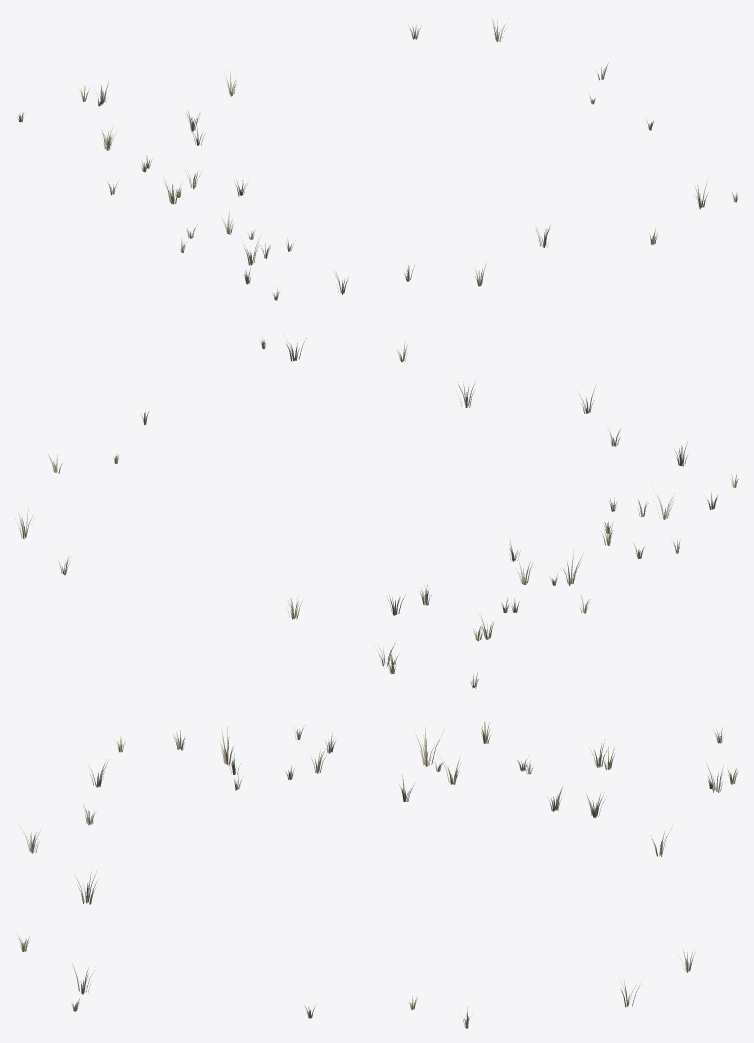
File: AE_Grass_2_1.fbx
3 renders of one model, top to bottom at view 1: azimuth 30°, elevation 25°; view 2: azimuth 150°, elevation 25°; view 3: azimuth 270°, elevation 25°, orthographic. The views are drawn at different scales.
Visible parts, largest first — view 1: AE_Grass_2_1_LOD0; view 2: AE_Grass_2_1_LOD0; view 3: AE_Grass_2_1_LOD0.
Boxes of the visible parts, x1,y1,x2,y2 form: AE_Grass_2_1_LOD0: (17,19,738,300); AE_Grass_2_1_LOD0: (15,338,738,688); AE_Grass_2_1_LOD0: (17,721,737,1028).
Size of what is drawn, in the model's own units: 1788 by 108 by 1834.
